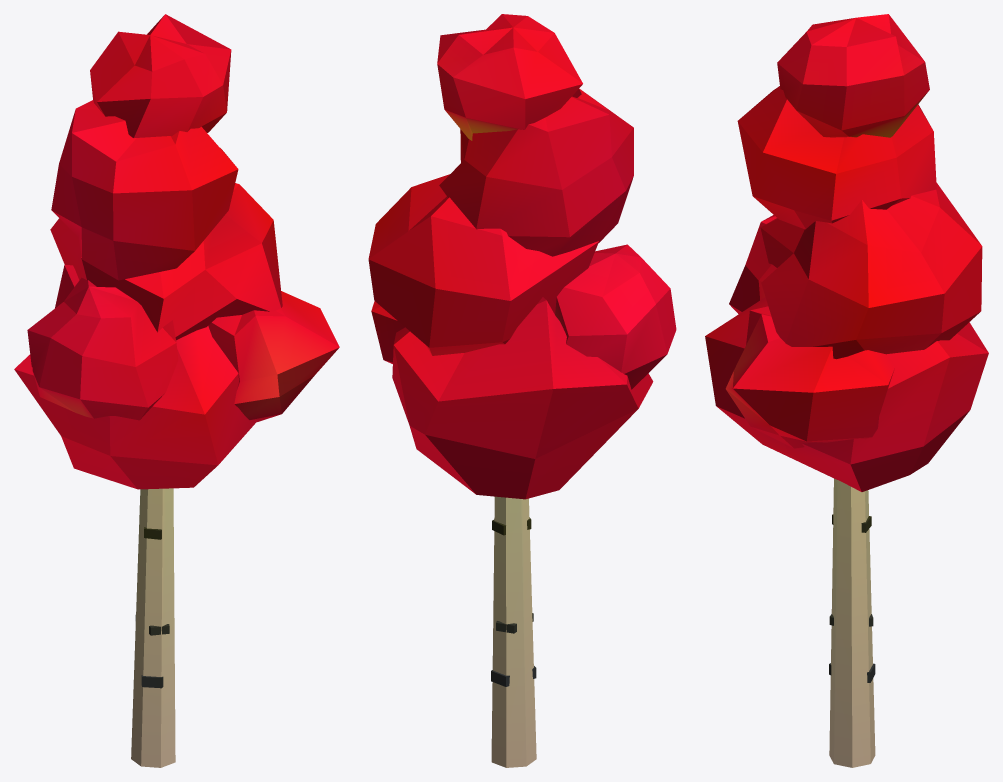
Rendered from Tree_Birch_Autumn_01.glb.
3 views of the same model, side by side, from view 1: azimuth 30°, elevation 25°; view 2: azimuth 150°, elevation 25°; view 3: azimuth 270°, elevation 25° (orthographic). The views are drawn at different scales.
Parts seen in each view (by area): view 1: Tree_Birch_Autumn_01; view 2: Tree_Birch_Autumn_01; view 3: Tree_Birch_Autumn_01.
Boxes of the visible parts, left/top/right/bottom form: Tree_Birch_Autumn_01: left=14, top=14, right=339, bottom=767; Tree_Birch_Autumn_01: left=368, top=14, right=676, bottom=767; Tree_Birch_Autumn_01: left=705, top=14, right=988, bottom=767.
Bounding box in the file's own units: 2.39 × 5.88 × 2.05.
